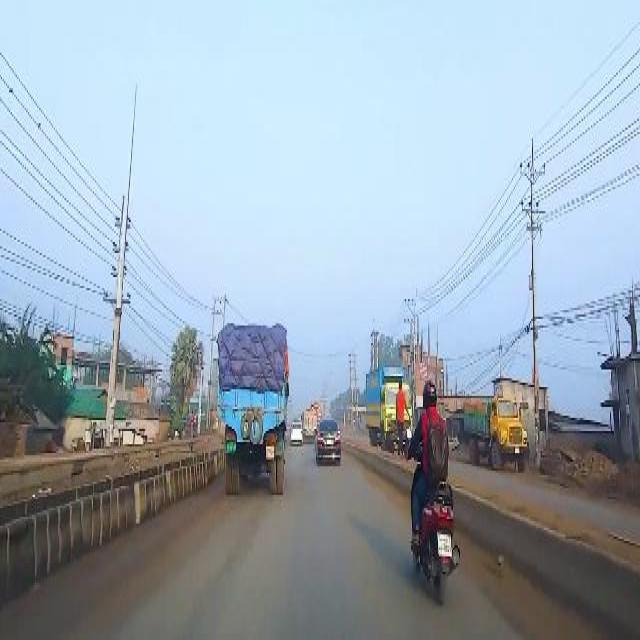bike: (409, 377, 462, 606)
vehicle: (217, 317, 288, 493), (464, 397, 530, 469), (365, 371, 415, 448), (316, 420, 342, 464), (304, 409, 317, 440), (291, 419, 303, 447)
